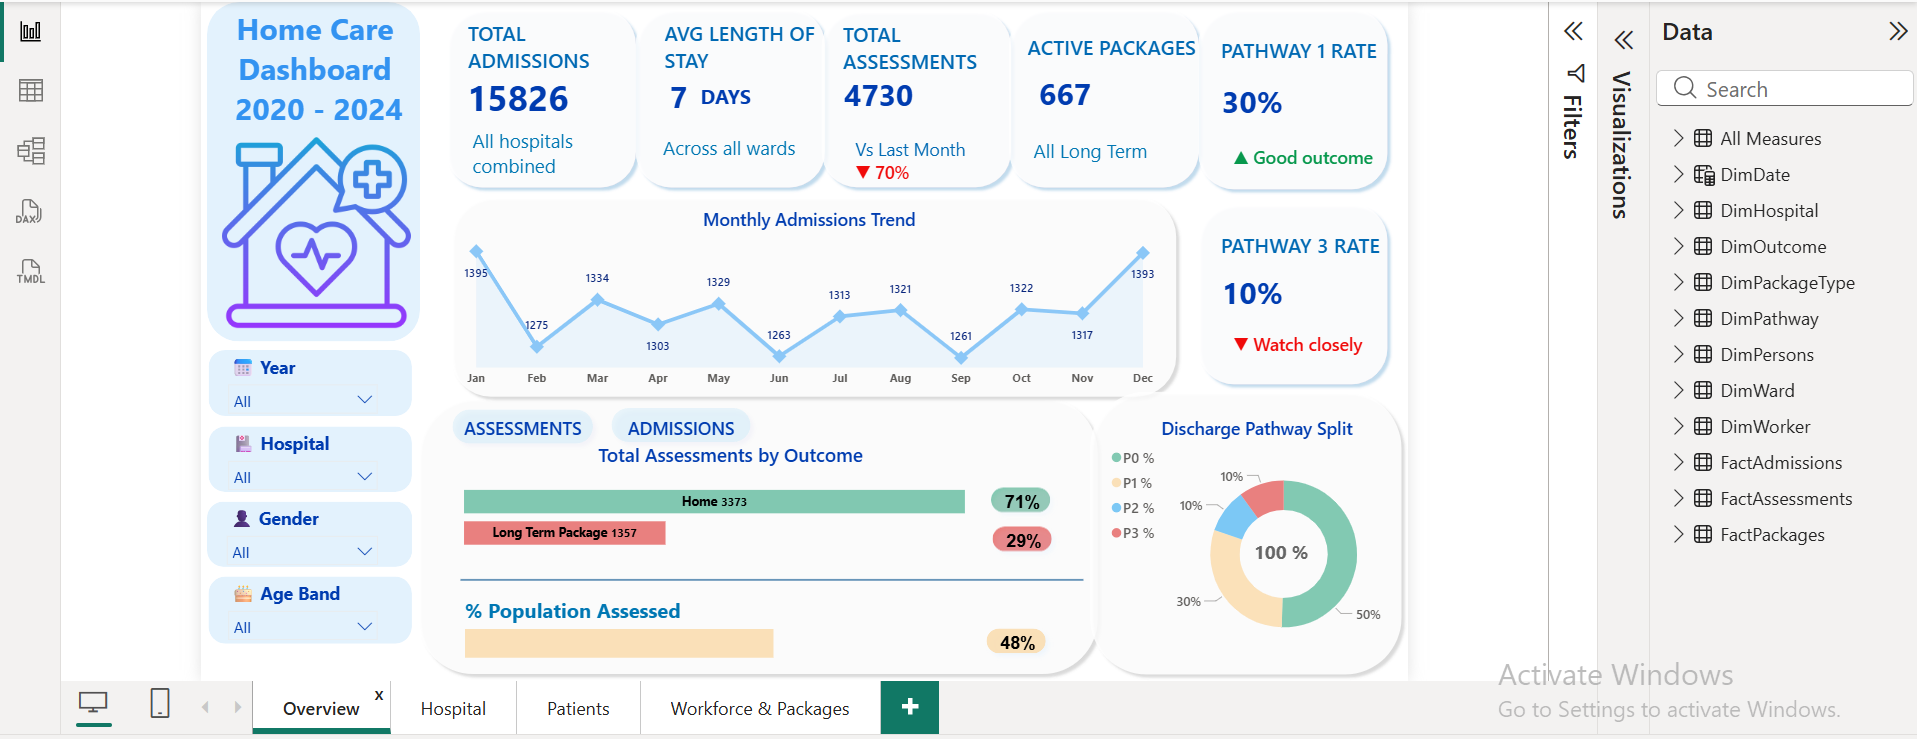

Layout of this report page (visuals, bound fields, positions):
{"tool":"powerbi","page":{"name":"Overview","canvas":[1280,720],"ordinal":0},"visuals":[{"type":"group","id":"g1","title":"Group 1","box":[0,0,250.4,360.1],"z":0},{"type":"shape","box":[6.4,0,226,360.1],"z":0,"group":"g1"},{"type":"shape","box":[252.3,0,215.7,204.1],"z":0,"group":"g9"},{"type":"shape","box":[452.6,0,215.7,204.1],"z":0,"group":"g11"},{"type":"shape","box":[849.3,0,215.9,204.1],"z":0,"group":"g13"},{"type":"shape","box":[1049.6,0,215.7,206.1],"z":0,"group":"g14"},{"type":"shape","box":[650.9,1.9,215.7,202.2],"z":0,"group":"g12"},{"type":"shape","box":[258.1,198.4,783.8,227.2],"z":0,"group":"g16"},{"type":"shape","box":[1049.6,206.1,215.7,206.1],"z":0,"group":"g15"},{"type":"shape","box":[7.7,369.8,215.7,70],"z":0,"group":"g3"},{"type":"group","id":"g2","title":"Donut","box":[935.3,405.6,345.2,314.9],"z":0,"group":"g18"},{"type":"shape","box":[935.3,405.6,345.2,314.9],"z":0,"group":"g2"},{"type":"shape","box":[7.7,450.6,215.7,69.3],"z":0,"group":"g4"},{"type":"shape","box":[830.1,507,80.9,44.3],"z":0,"group":"g10"},{"type":"shape","box":[5.8,529.6,217.6,69.3],"z":0,"group":"g5"},{"type":"shape","box":[830.3,547.5,80.9,44.3],"z":0,"group":"g7"},{"type":"shape","box":[7.7,608.6,215.7,71.3],"z":0,"group":"g8"},{"type":"shape","box":[279.3,616.8,285,57.8],"z":0,"group":"g17"},{"type":"shape","box":[824.3,655.1,80.9,44.3],"z":0,"group":"g6"},{"type":"textbox","box":[0,0,250.4,148.2],"z":1000,"group":"g1"},{"type":"cardVisual","fields":{"Data":["All Measures.Active Packages"]},"box":[872.2,54.1,169.7,80.3],"z":1000,"group":"g13"},{"type":"cardVisual","fields":{"Data":["All Measures.Total Admissions"]},"box":[258.1,55.8,169.5,80.3],"z":1000,"group":"g9"},{"type":"cardVisual","fields":{"Data":["All Measures.Total Assessments"]},"box":[664.5,56,181,150.2],"z":1000,"group":"g12"},{"type":"cardVisual","fields":{"Data":["All Measures.Avg Length of Stay"]},"box":[479.5,57.6,67.4,80.3],"z":1000,"group":"g11"},{"type":"cardVisual","fields":{"Data":["All Measures.Pathway 1 Rate"]},"box":[1065,61.6,215.7,154.1],"z":1000,"group":"g14"},{"type":"lineChart","title":"Monthly Admissions Trend","fields":{"Y":["All Measures.Total Admissions"],"Category":["DimDate.MonthName"]},"box":[262,217.7,768.4,198.4],"z":1000,"group":"g16"},{"type":"cardVisual","fields":{"Data":["All Measures.Pathway 3 Rate"]},"box":[1065,267.7,215.7,138.7],"z":1000,"group":"g15"},{"type":"slicer","fields":{"Values":["DimDate.Year"]},"box":[19,369.8,178.2,70],"z":1000,"group":"g3"},{"type":"shape","box":[223.4,412.1,735.7,308.1],"z":1000},{"type":"donutChart","title":"Discharge Pathway Split","fields":{"Y":["All Measures.No Pathway Rate","All Measures.Pathway 1 Rate","All Measures.Pathway 2 Rate","All Measures.Pathway 3 Rate"]},"box":[959.2,439,321.3,267.2],"z":1000,"group":"g2"},{"type":"slicer","fields":{"Values":["DimHospital.Hospital Name"]},"box":[19,450.6,178.2,69.3],"z":1000,"group":"g4"},{"type":"clusteredBarChart","fields":{"Category":["DimOutcome.Outcome"],"Y":["All Measures.Total Assessments"]},"box":[273.5,466.6,575.8,132.9],"z":1000,"group":"g17"},{"type":"advanceCardE03760C5AB684758B56AA29F9E6C257B","fields":{"mainMeasure":["All Measures.Home Outcome Rate"]},"box":[826.2,512.8,90.5,34.7],"z":1000,"group":"g10"},{"type":"slicer","fields":{"Values":["DimPersons.gender"]},"box":[17.2,529.6,179.8,69.3],"z":1000,"group":"g5"},{"type":"shape","box":[1103.9,550.3,82.7,63.6],"z":1000,"group":"g18"},{"type":"advanceCardE03760C5AB684758B56AA29F9E6C257B","fields":{"mainMeasure":["All Measures.Long Term Package Rate"]},"box":[826.4,553.3,90.5,34.7],"z":1000,"group":"g7"},{"type":"slicer","fields":{"Values":["DimPersons.Age Band"]},"box":[19,608.6,178.2,71.3],"z":1000,"group":"g8"},{"type":"advanceCardE03760C5AB684758B56AA29F9E6C257B","fields":{"mainMeasure":["All Measures.% Population Assessed"]},"box":[820.4,660.9,90.5,34.7],"z":1000,"group":"g6"},{"type":"shape","box":[1080.7,11.6,186.8,79],"z":2000,"group":"g14"},{"type":"shape","box":[681.7,12.3,186.8,70.9],"z":2000,"group":"g12"},{"type":"shape","box":[489.2,119.4,186.8,71.3],"z":2000,"group":"g11"},{"type":"shape","box":[882,123.3,186.8,71.3],"z":2000,"group":"g13"},{"type":"shape","box":[287,123.9,186.8,71.5],"z":2000,"group":"g9"},{"type":"image","box":[12.8,143.4,219.5,202.4],"z":2000,"group":"g1"},{"type":"shape","box":[1080.7,217.7,186.8,79],"z":2000,"group":"g15"},{"type":"group","id":"g3","title":"Group 2","box":[7.7,369.8,215.7,71.3],"z":2000},{"type":"shape","box":[279.6,665.7,327.1,30.5],"z":2000,"group":"g17"},{"type":"shape","box":[283.1,10.5,186.8,71.5],"z":3000,"group":"g9"},{"type":"shape","box":[491.1,10.5,186.8,71.5],"z":3000,"group":"g11"},{"type":"shape","box":[876,10.5,187,71.5],"z":3000,"group":"g13"},{"type":"group","id":"g4","title":"Group 2","box":[7.7,450.6,215.7,69.3],"z":3000},{"type":"shape","box":[275.4,570.6,660.6,86.7],"z":3000,"group":"g17"},{"type":"shape","box":[529.6,71.5,86.7,55.8],"z":4000,"group":"g11"},{"type":"group","id":"g5","title":"Group 2","box":[5.8,529.6,217.6,69.3],"z":4000},{"type":"group","id":"g6","title":"Group 6","box":[820.4,655.1,90.5,44.3],"z":4000,"group":"g17"},{"type":"group","id":"g7","title":"Group 5","box":[826.4,547.5,90.5,44.3],"z":5000,"group":"g17"},{"type":"group","id":"g8","title":"Group 2","box":[7.7,608.6,215.7,71.3],"z":5000},{"type":"group","id":"g9","title":"Card 1","box":[252.3,0,221.5,204.1],"z":6000},{"type":"group","id":"g10","title":"Group 4","box":[826.2,507,90.5,44.3],"z":6000,"group":"g17"},{"type":"group","id":"g11","title":"Card 2","box":[452.6,0,225.3,204.1],"z":7000},{"type":"group","id":"g12","title":"Card 3","box":[650.9,1.9,217.6,204.3],"z":8000},{"type":"group","id":"g13","title":"Card 4","box":[849.3,0,219.5,204.1],"z":9000},{"type":"group","id":"g14","title":"Card 5","box":[1049.6,0,231.1,215.7],"z":10000},{"type":"group","id":"g15","title":"Card 6","box":[1049.6,206.1,231.1,206.1],"z":11000},{"type":"group","id":"g16","title":"trend","box":[258.1,198.4,783.8,227.2],"z":12000},{"type":"group","id":"g17","title":"total assessment by outcome","box":[273.5,466.6,662.5,232.8],"z":14000},{"type":"actionButton","title":"ASSESSMENTS","box":[257.7,423.1,167,54.1],"z":15000},{"type":"actionButton","title":"ADMISSIONS","box":[426.3,421.5,165.4,54.1],"z":16000},{"type":"group","id":"g18","title":"Group 3","box":[935.3,405.6,345.2,314.9],"z":17000}]}

Visuals, with their boxes on the page's 1280x720 design canvas (x1, y1, x2, y2). These are canvas units, not pixel positions in the 1917x739 screenshot, which may show the page scaled, cropped or inside an application window:
"Group 1" group: box(0, 0, 250, 360)
shape: box(6, 0, 232, 360)
shape: box(252, 0, 468, 204)
shape: box(453, 0, 668, 204)
shape: box(849, 0, 1065, 204)
shape: box(1050, 0, 1265, 206)
shape: box(651, 2, 867, 204)
shape: box(258, 198, 1042, 426)
shape: box(1050, 206, 1265, 412)
shape: box(8, 370, 223, 440)
"Donut" group: box(935, 406, 1280, 720)
shape: box(935, 406, 1280, 720)
shape: box(8, 451, 223, 520)
shape: box(830, 507, 911, 551)
shape: box(6, 530, 223, 599)
shape: box(830, 548, 911, 592)
shape: box(8, 609, 223, 680)
shape: box(279, 617, 564, 675)
shape: box(824, 655, 905, 699)
textbox: box(0, 0, 250, 148)
cardVisual - All Measures.Active Packages: box(872, 54, 1042, 134)
cardVisual - All Measures.Total Admissions: box(258, 56, 428, 136)
cardVisual - All Measures.Total Assessments: box(664, 56, 846, 206)
cardVisual - All Measures.Avg Length of Stay: box(480, 58, 547, 138)
cardVisual - All Measures.Pathway 1 Rate: box(1065, 62, 1281, 216)
"Monthly Admissions Trend" lineChart: box(262, 218, 1030, 416)
cardVisual - All Measures.Pathway 3 Rate: box(1065, 268, 1281, 406)
slicer - DimDate.Year: box(19, 370, 197, 440)
shape: box(223, 412, 959, 720)
"Discharge Pathway Split" donutChart: box(959, 439, 1280, 706)
slicer - DimHospital.Hospital Name: box(19, 451, 197, 520)
clusteredBarChart - DimOutcome.Outcome x All Measures.Total Assessments: box(274, 467, 849, 600)
advanceCardE03760C5AB684758B56AA29F9E6C257B - All Measures.Home Outcome Rate: box(826, 513, 917, 548)
slicer - DimPersons.gender: box(17, 530, 197, 599)
shape: box(1104, 550, 1187, 614)
advanceCardE03760C5AB684758B56AA29F9E6C257B - All Measures.Long Term Package Rate: box(826, 553, 917, 588)
slicer - DimPersons.Age Band: box(19, 609, 197, 680)
advanceCardE03760C5AB684758B56AA29F9E6C257B - All Measures.% Population Assessed: box(820, 661, 911, 696)
shape: box(1081, 12, 1268, 91)
shape: box(682, 12, 868, 83)
shape: box(489, 119, 676, 191)
shape: box(882, 123, 1069, 195)
shape: box(287, 124, 474, 195)
image: box(13, 143, 232, 346)
shape: box(1081, 218, 1268, 297)
"Group 2" group: box(8, 370, 223, 441)
shape: box(280, 666, 607, 696)
shape: box(283, 10, 470, 82)
shape: box(491, 10, 678, 82)
shape: box(876, 10, 1063, 82)
"Group 2" group: box(8, 451, 223, 520)
shape: box(275, 571, 936, 657)
shape: box(530, 72, 616, 127)
"Group 2" group: box(6, 530, 223, 599)
"Group 6" group: box(820, 655, 911, 699)
"Group 5" group: box(826, 548, 917, 592)
"Group 2" group: box(8, 609, 223, 680)
"Card 1" group: box(252, 0, 474, 204)
"Group 4" group: box(826, 507, 917, 551)
"Card 2" group: box(453, 0, 678, 204)
"Card 3" group: box(651, 2, 868, 206)
"Card 4" group: box(849, 0, 1069, 204)
"Card 5" group: box(1050, 0, 1281, 216)
"Card 6" group: box(1050, 206, 1281, 412)
"trend" group: box(258, 198, 1042, 426)
"total assessment by outcome" group: box(274, 467, 936, 699)
"ASSESSMENTS" actionButton: box(258, 423, 425, 477)
"ADMISSIONS" actionButton: box(426, 422, 592, 476)
"Group 3" group: box(935, 406, 1280, 720)
